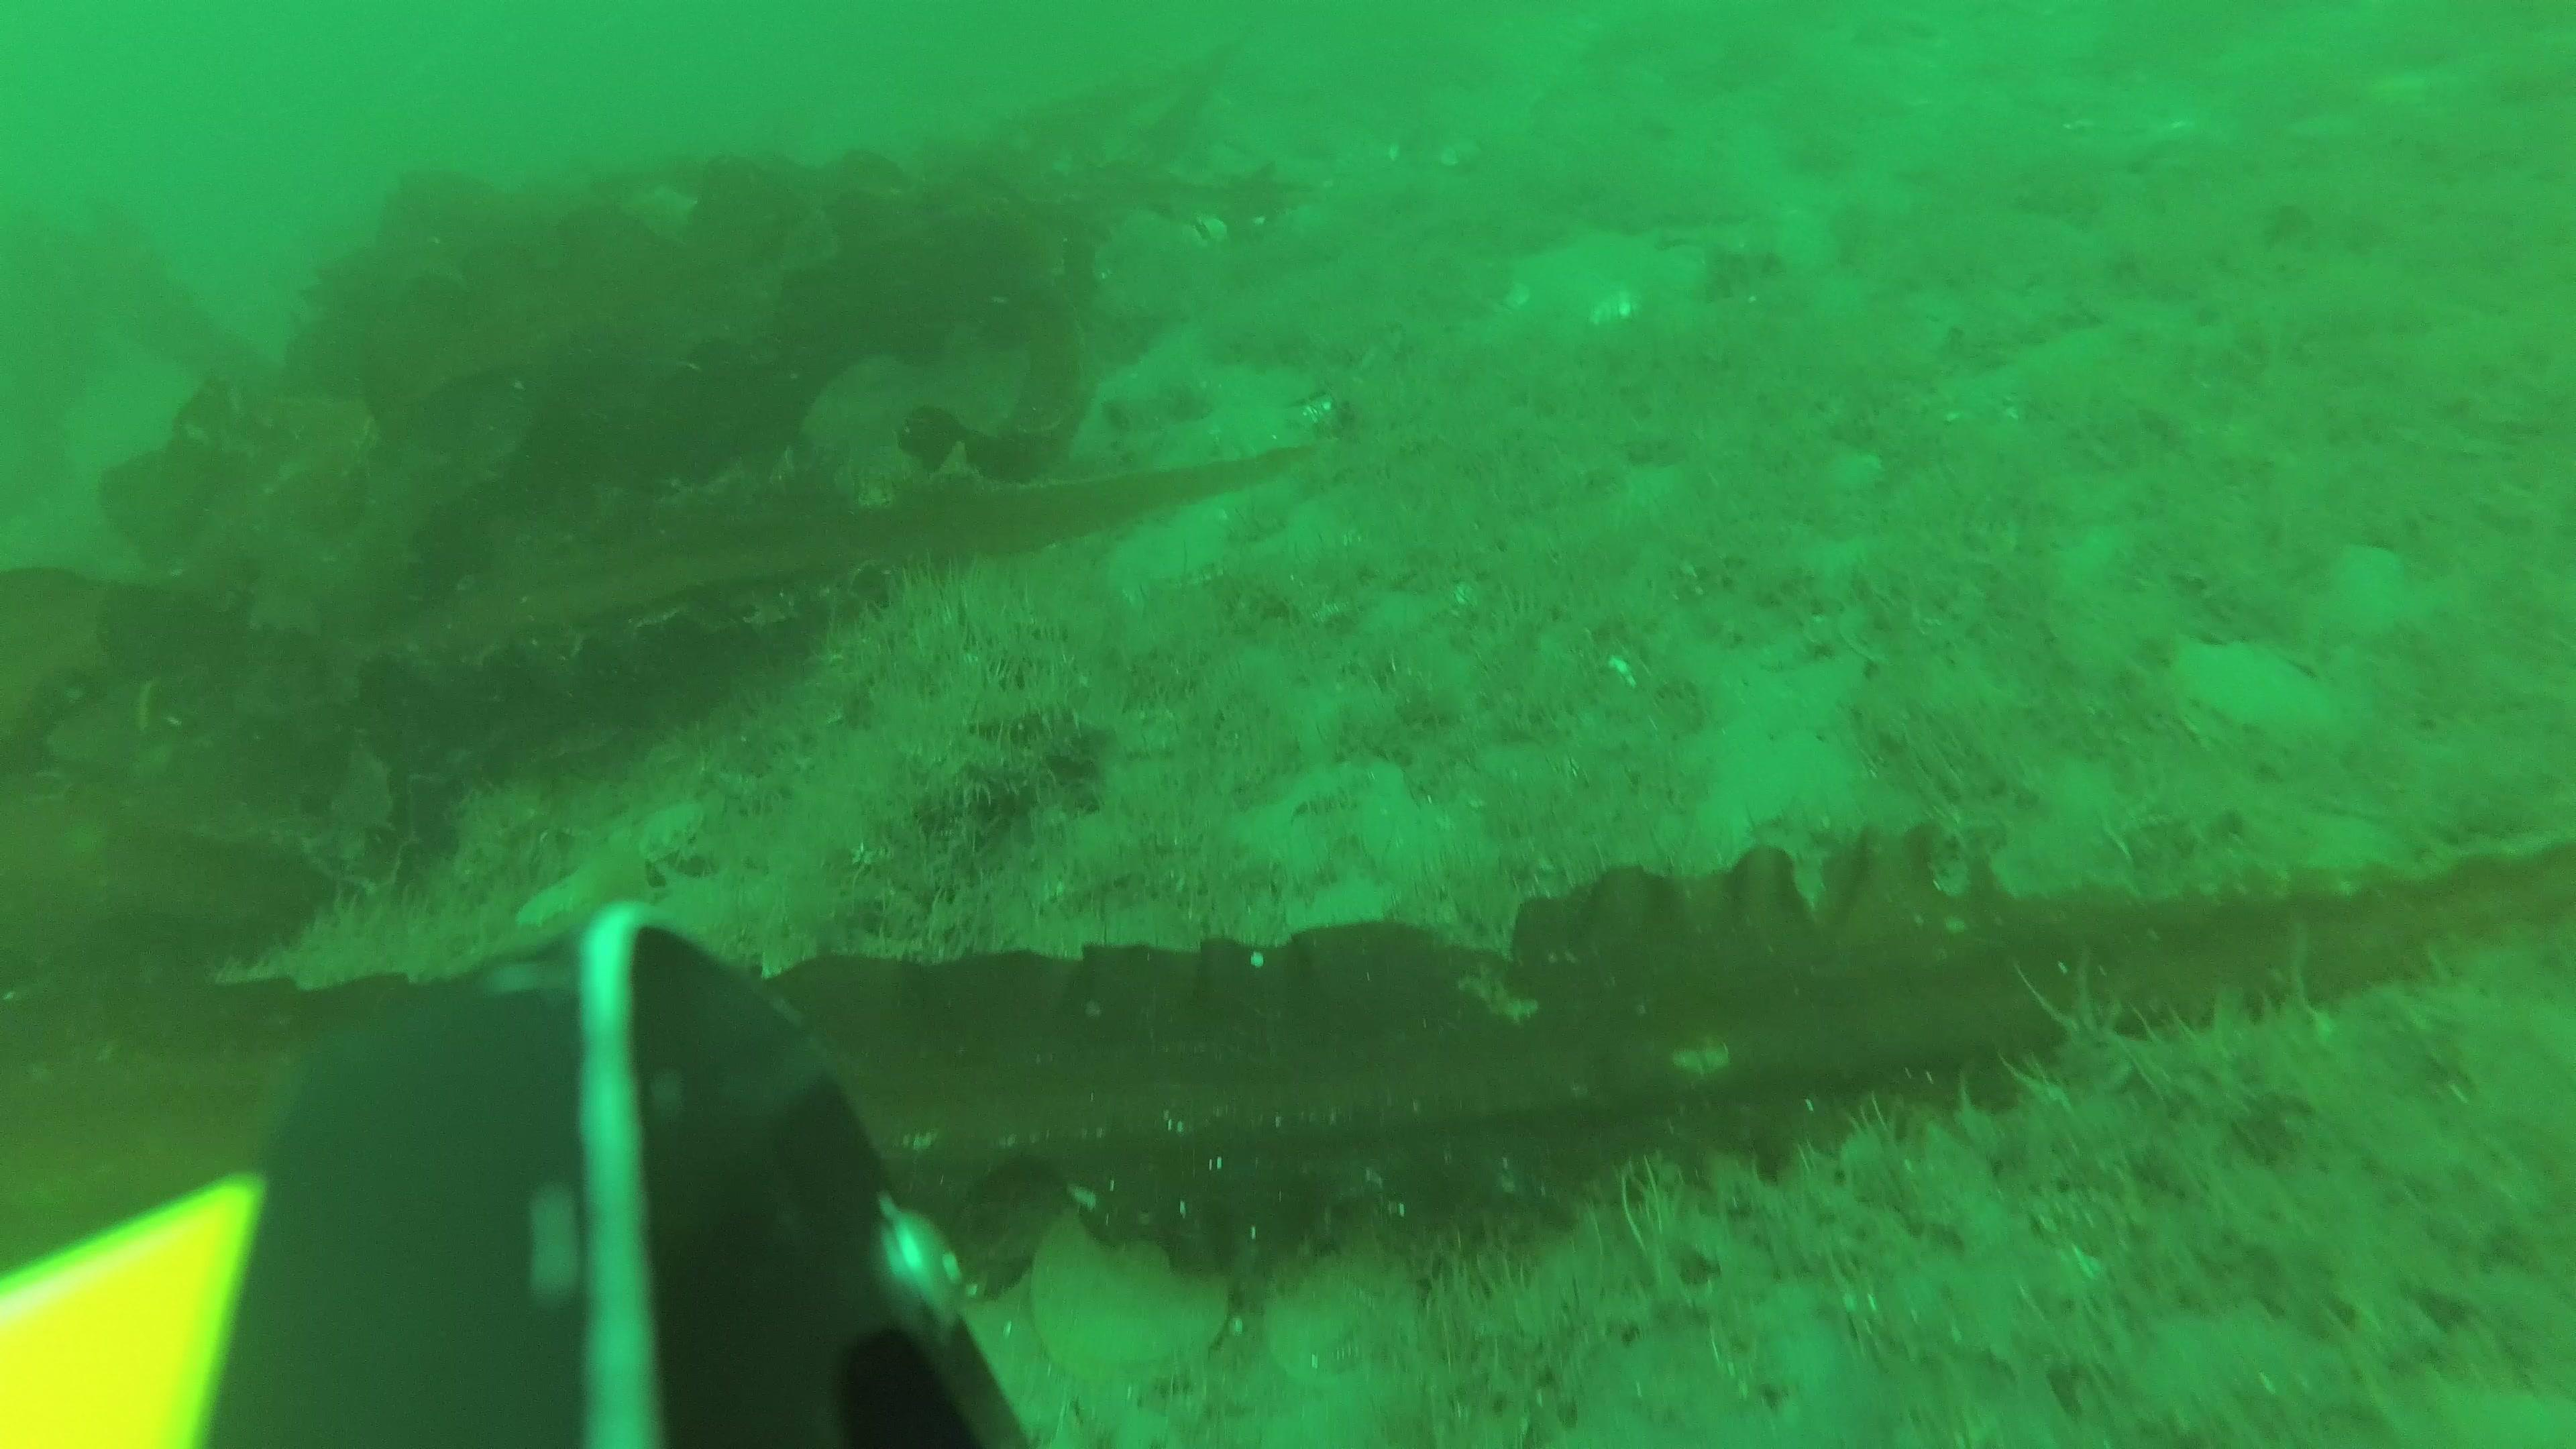scallop: (1023, 1208, 1231, 1375)
